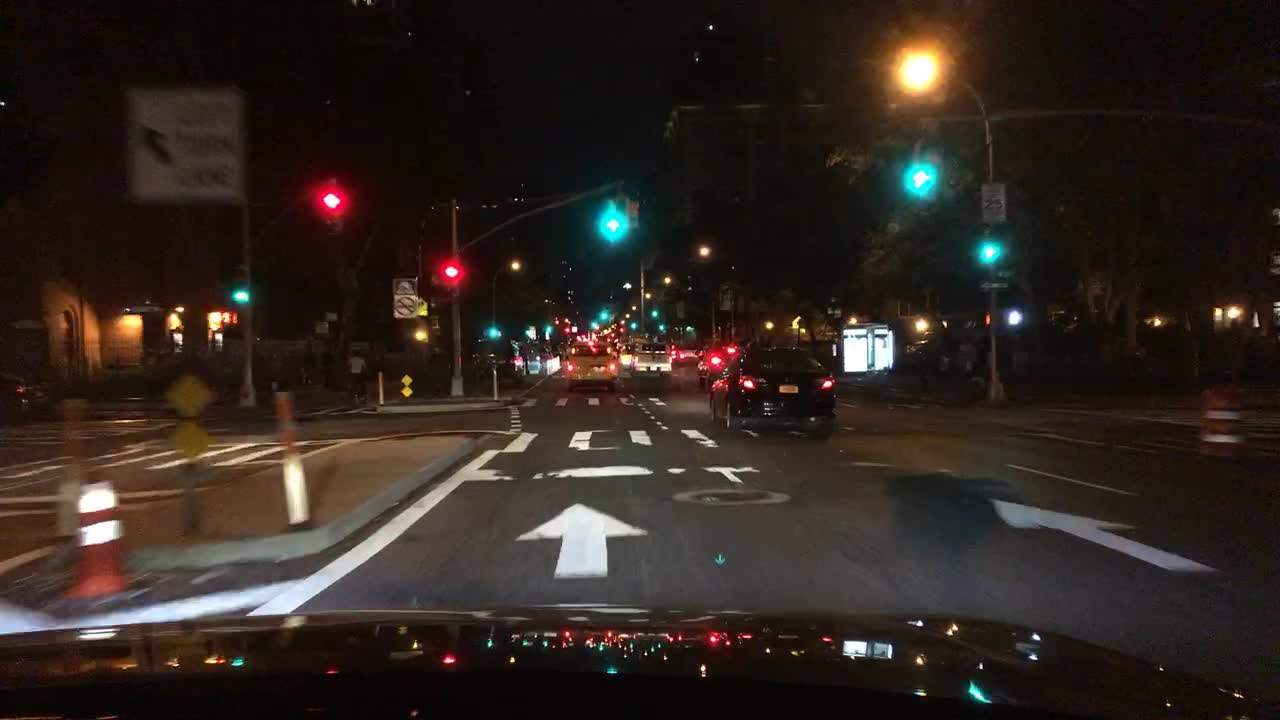bike: (343, 379, 366, 406)
car: (706, 339, 840, 437), (559, 334, 618, 392), (0, 366, 52, 420), (693, 343, 746, 383), (624, 337, 674, 377), (669, 343, 691, 366)
person: (295, 343, 315, 387), (320, 345, 333, 387)
rider: (343, 347, 370, 400)
traffic light: (913, 141, 929, 187), (231, 266, 248, 302), (321, 190, 338, 222), (606, 195, 618, 235), (442, 261, 455, 296), (624, 196, 637, 231), (1002, 307, 1019, 328), (984, 236, 994, 261), (979, 308, 991, 328), (486, 323, 497, 339), (647, 302, 658, 317), (657, 323, 665, 338), (543, 323, 552, 336), (629, 315, 635, 330), (598, 306, 604, 320)
traffic sign: (123, 83, 244, 202), (168, 373, 217, 464), (976, 180, 1007, 224), (391, 278, 416, 314), (978, 276, 1006, 289), (994, 267, 1020, 280), (401, 376, 413, 398)
